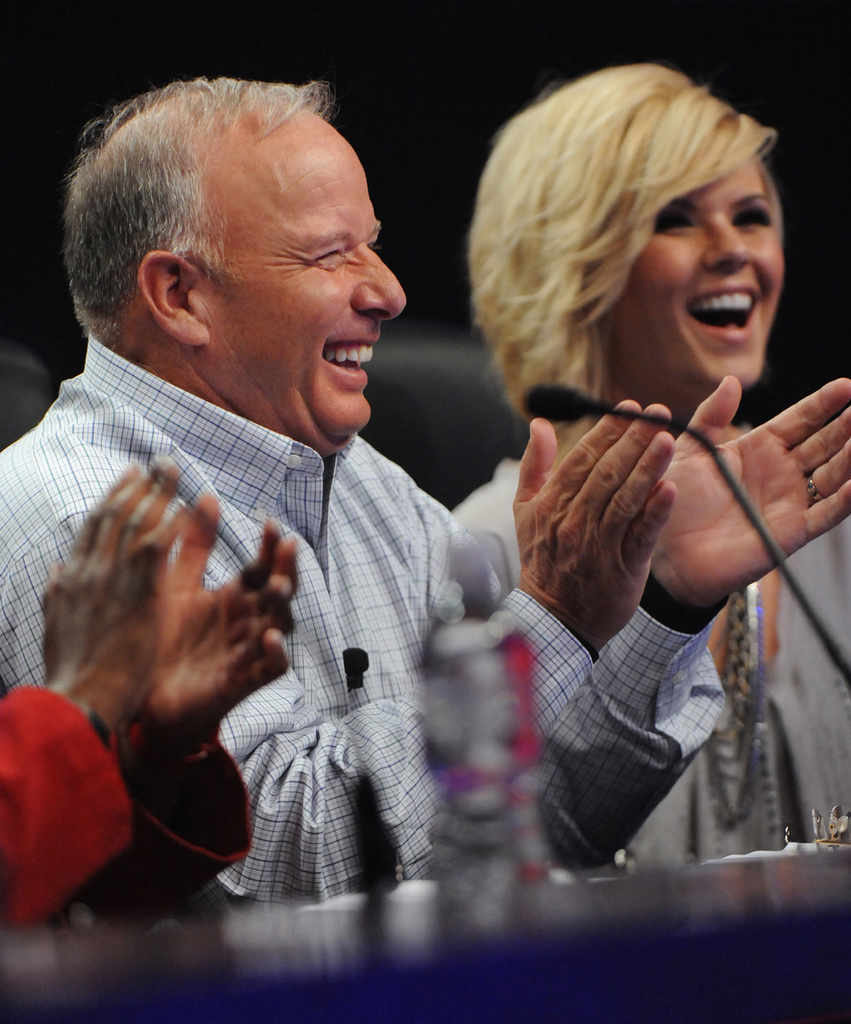face: (60, 64, 411, 449), (543, 89, 807, 391)
